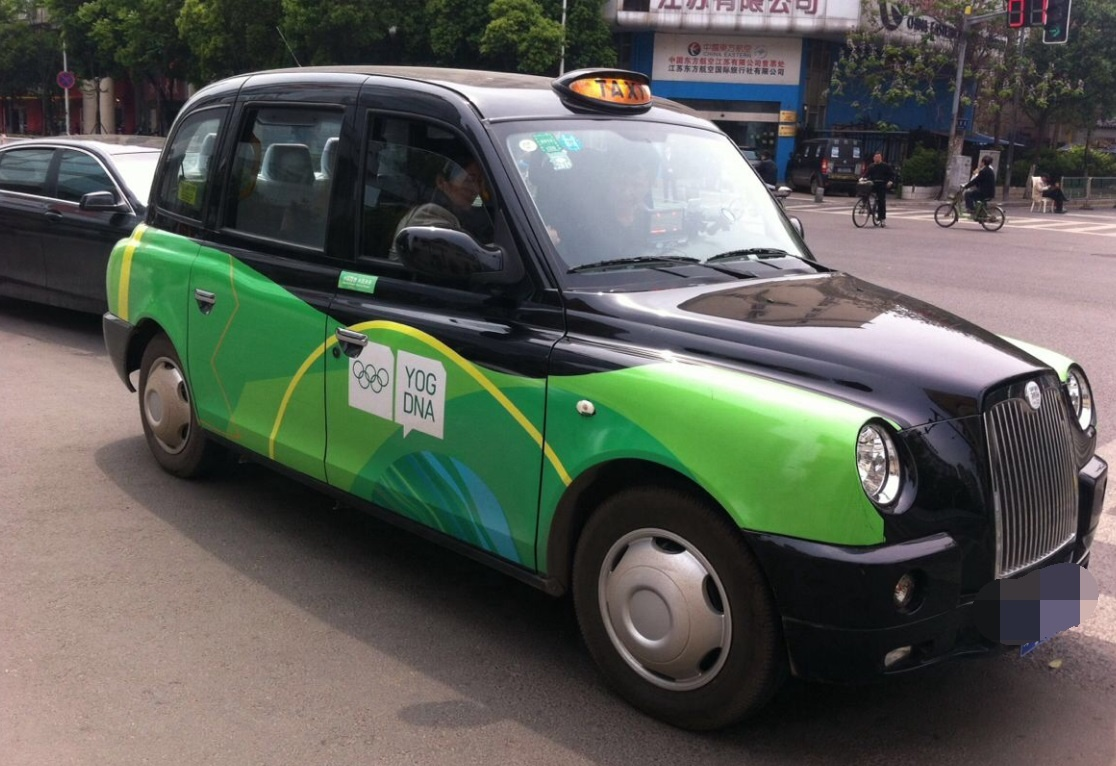taxi: (114, 57, 1097, 710)
